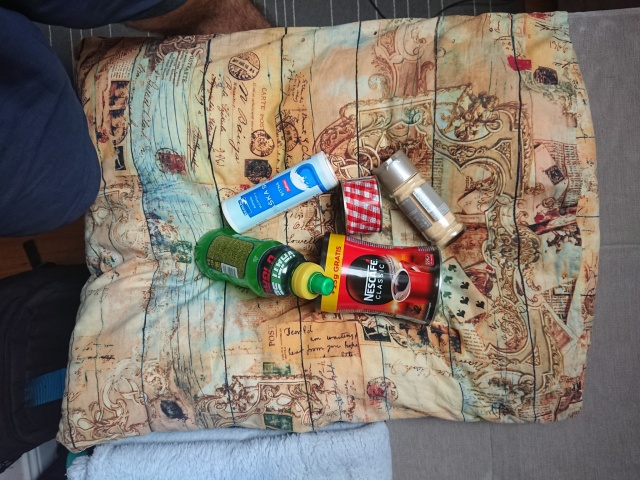Kotanyi Garlic Granules 70g: (369, 147, 468, 252)
Nescafe Classic 225g: (312, 231, 444, 328)
Podravka Luncheon Meat 150g: (337, 172, 387, 237)
Solana Pag Fine Sea Salt 250g: (219, 148, 341, 236)
Vindi Iso Sport Lemon-Grapefruit 500mL: (191, 226, 337, 302)
